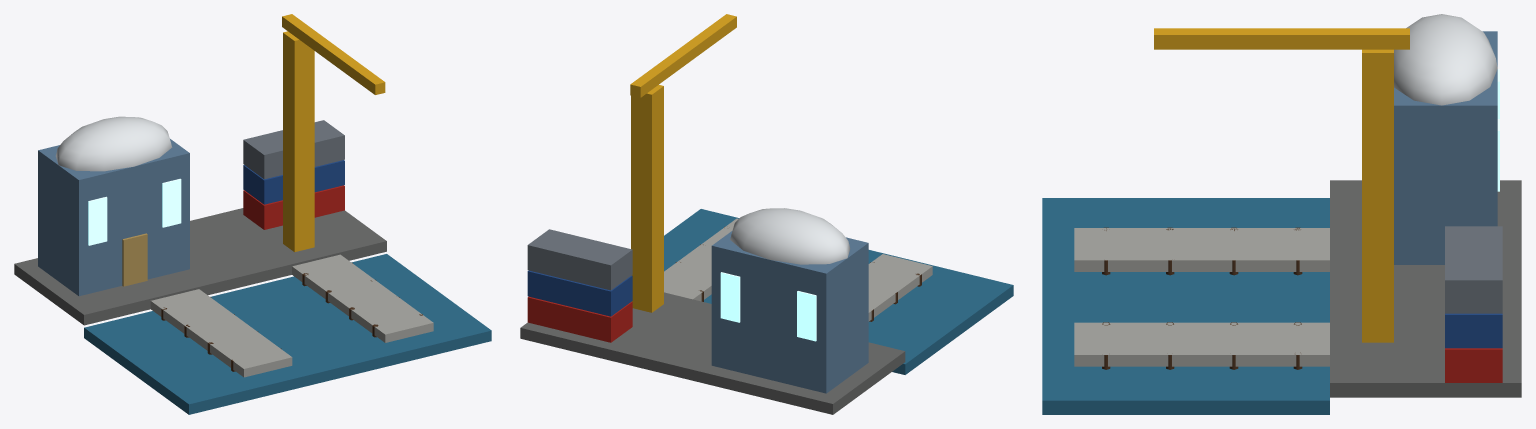
Rendered from bld_special_port_a10.glb.
3 views of the same model, side by side, from view 1: azimuth 30°, elevation 25°; view 2: azimuth 150°, elevation 25°; view 3: azimuth 270°, elevation 25° (orthographic). The views are drawn at different scales.
Visible parts, largest first — view 1: body, crane; view 2: body, crane; view 3: body, crane.
Boxes of the visible parts, x1=… form: body: x1=14, y1=116, x2=491, y2=414; crane: x1=282, y1=14, x2=385, y2=252; body: x1=520, y1=208, x2=1013, y2=414; crane: x1=630, y1=14, x2=736, y2=312; body: x1=1042, y1=14, x2=1521, y2=414; crane: x1=1154, y1=28, x2=1409, y2=342.
Size of what is drawn, in the model's own units: 15 by 11.9 by 15.
